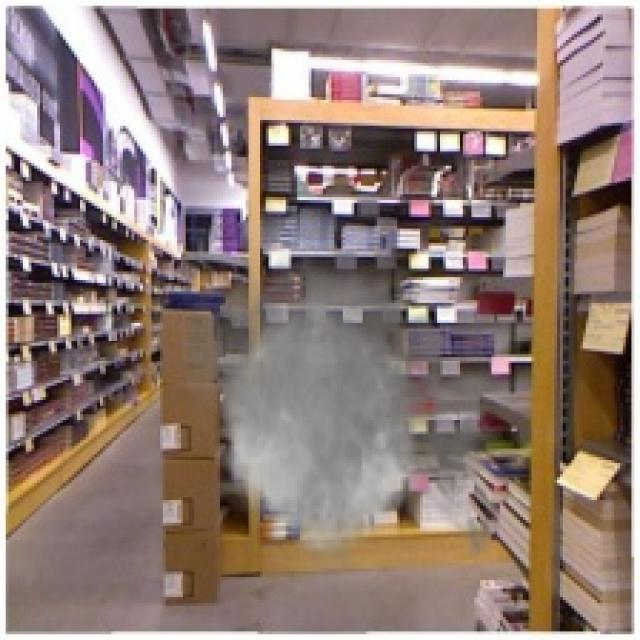smoke: (168, 231, 512, 623)
